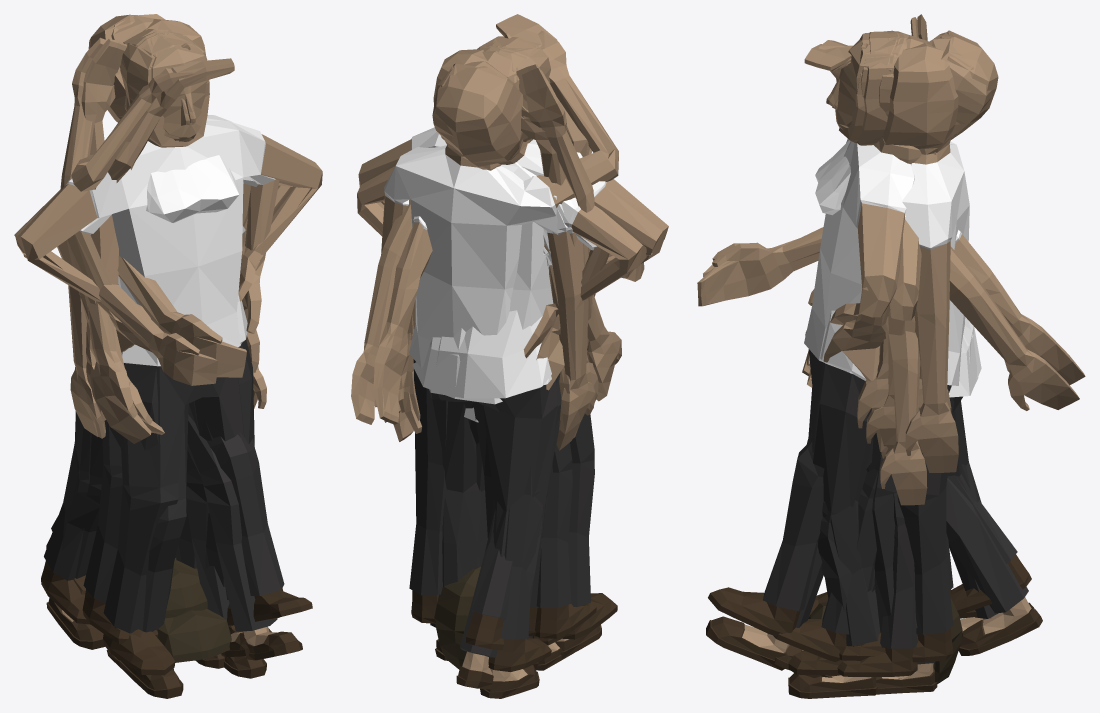
The model's file is bgpeople.glb.
The picture shows the model from 3 angles, left to right: view 1: azimuth 30°, elevation 25°; view 2: azimuth 150°, elevation 25°; view 3: azimuth 270°, elevation 25°; orthographic projection. The views are drawn at different scales.
Visible parts, largest first — view 1: P_m_LookingUp_rest, P_m_LookingUp_shirt, P_m_Running_rest, P_f_LookingUp_rest, P_f_Running_rest, P_f_Walking_rest, P_m_Standing_Hips_rest, P_f_LookingUp_shirt, P_m_Walking_rest, P_m_Standing_CoveringEyes_rest, P_f_Standing_Hips_rest, P_f_Standing_CoveringEyes_rest (+4 smaller); view 2: P_m_Standing_CoveringEyes_shirt, P_m_Standing_CoveringEyes_rest, P_m_LookingUp_rest, P_f_Walking_rest, P_m_Standing_Hips_rest, P_f_Standing_CoveringEyes_rest, P_f_Running_rest, P_m_Running_rest, P_m_Standing_rest, P_f_Walking_shirt, P_m_Walking_rest, P_m_Standing_Waving_rest (+7 smaller); view 3: P_m_Standing_CoveringEyes_rest, P_f_Running_rest, P_m_Running_rest, P_f_LookingUp_rest, P_m_LookingUp_rest, P_m_Standing_Waving_rest, P_m_LookingUp_shirt, P_m_Walking_rest, P_m_Standing_CoveringEyes_shirt, P_m_Standing_Hips_rest, P_f_Walking_rest, P_f_Standing_CoveringEyes_rest (+6 smaller).
Part boxes in pixels (x1,y1,x2,y2): P_m_LookingUp_rest: [15, 14, 322, 675]; P_m_LookingUp_shirt: [66, 121, 265, 366]; P_m_Running_rest: [46, 37, 312, 621]; P_f_LookingUp_rest: [69, 14, 279, 698]; P_f_Running_rest: [86, 34, 302, 660]; P_f_Walking_rest: [46, 33, 249, 657]; P_m_Standing_Hips_rest: [14, 33, 292, 643]; P_f_LookingUp_shirt: [79, 155, 275, 349]; P_m_Walking_rest: [41, 33, 280, 625]; P_m_Standing_CoveringEyes_rest: [71, 19, 205, 191]; P_f_Standing_Hips_rest: [57, 33, 247, 667]; P_f_Standing_CoveringEyes_rest: [108, 43, 234, 182]; P_m_Standing_CoveringEyes_shirt: [384, 145, 556, 367]; P_m_Standing_CoveringEyes_rest: [381, 30, 618, 669]; P_m_LookingUp_rest: [358, 66, 668, 639]; P_f_Walking_rest: [398, 45, 621, 698]; P_m_Standing_Hips_rest: [357, 48, 646, 638]; P_f_Standing_CoveringEyes_rest: [404, 14, 591, 660]; P_f_Running_rest: [373, 47, 612, 689]; P_m_Running_rest: [351, 44, 644, 649]; P_m_Standing_rest: [482, 51, 595, 636]; P_f_Walking_shirt: [429, 164, 552, 398]; P_m_Walking_rest: [402, 45, 593, 671]; P_m_Standing_Waving_rest: [393, 68, 594, 645]; P_m_Standing_CoveringEyes_rest: [819, 40, 962, 683]; P_f_Running_rest: [697, 30, 1085, 670]; P_m_Running_rest: [703, 37, 1079, 636]; P_f_LookingUp_rest: [788, 31, 991, 698]; P_m_LookingUp_rest: [788, 30, 998, 675]; P_m_Standing_Waving_rest: [837, 14, 927, 676]; P_m_LookingUp_shirt: [804, 139, 914, 373]; P_m_Walking_rest: [773, 40, 976, 669]; P_m_Standing_CoveringEyes_shirt: [902, 141, 969, 385]; P_m_Standing_Hips_rest: [839, 38, 921, 660]; P_f_Walking_rest: [774, 34, 998, 678]; P_f_Standing_CoveringEyes_rest: [804, 43, 962, 694].
Bounding box in the file's own units: 0.516 × 1 × 0.5576.
